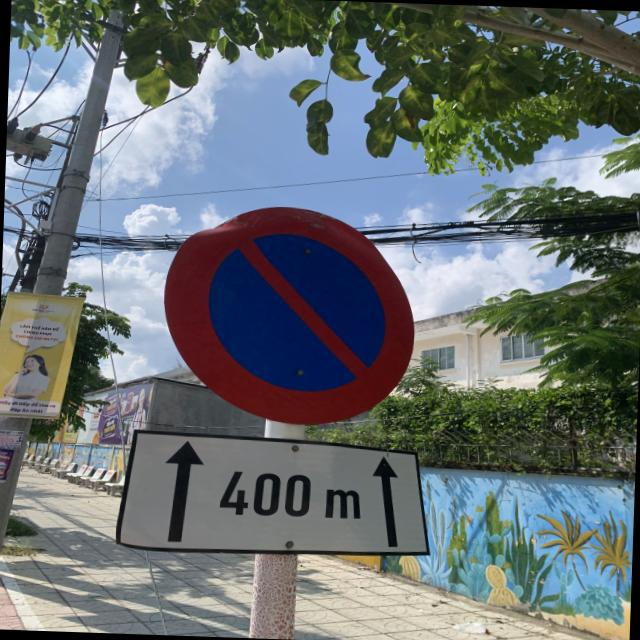Cam_Dau_Xe: (159, 202, 421, 429)
